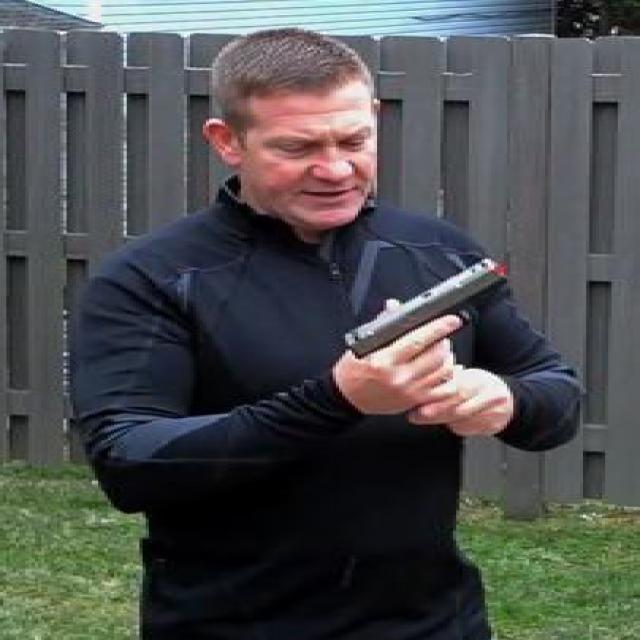gun: (332, 255, 514, 393)
